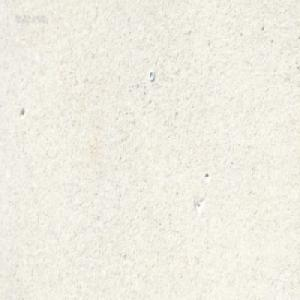Washer: (148, 68, 154, 80)
